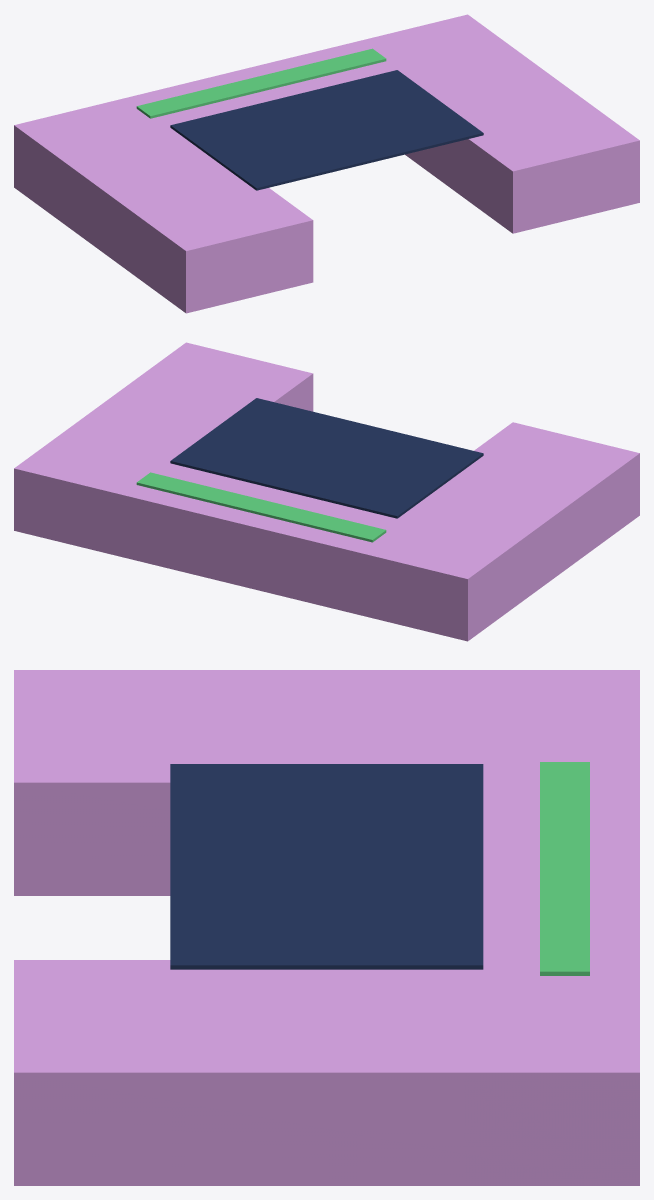
Rendered from habitat_eco_residential_commons.glb.
3 views of the same model, one above another, from view 1: azimuth 30°, elevation 25°; view 2: azimuth 150°, elevation 25°; view 3: azimuth 270°, elevation 25° (orthographic). The views are drawn at different scales.
Visible parts, largest first — view 1: habitat_eco_residential_commons; view 2: habitat_eco_residential_commons; view 3: habitat_eco_residential_commons.
Part boxes in pixels (box(x1,y1,x2,y2)): habitat_eco_residential_commons: box(14, 14, 639, 313); habitat_eco_residential_commons: box(14, 342, 639, 641); habitat_eco_residential_commons: box(14, 670, 639, 1185).
Bounding box in the file's own units: 107 × 14.84 × 70.1.
